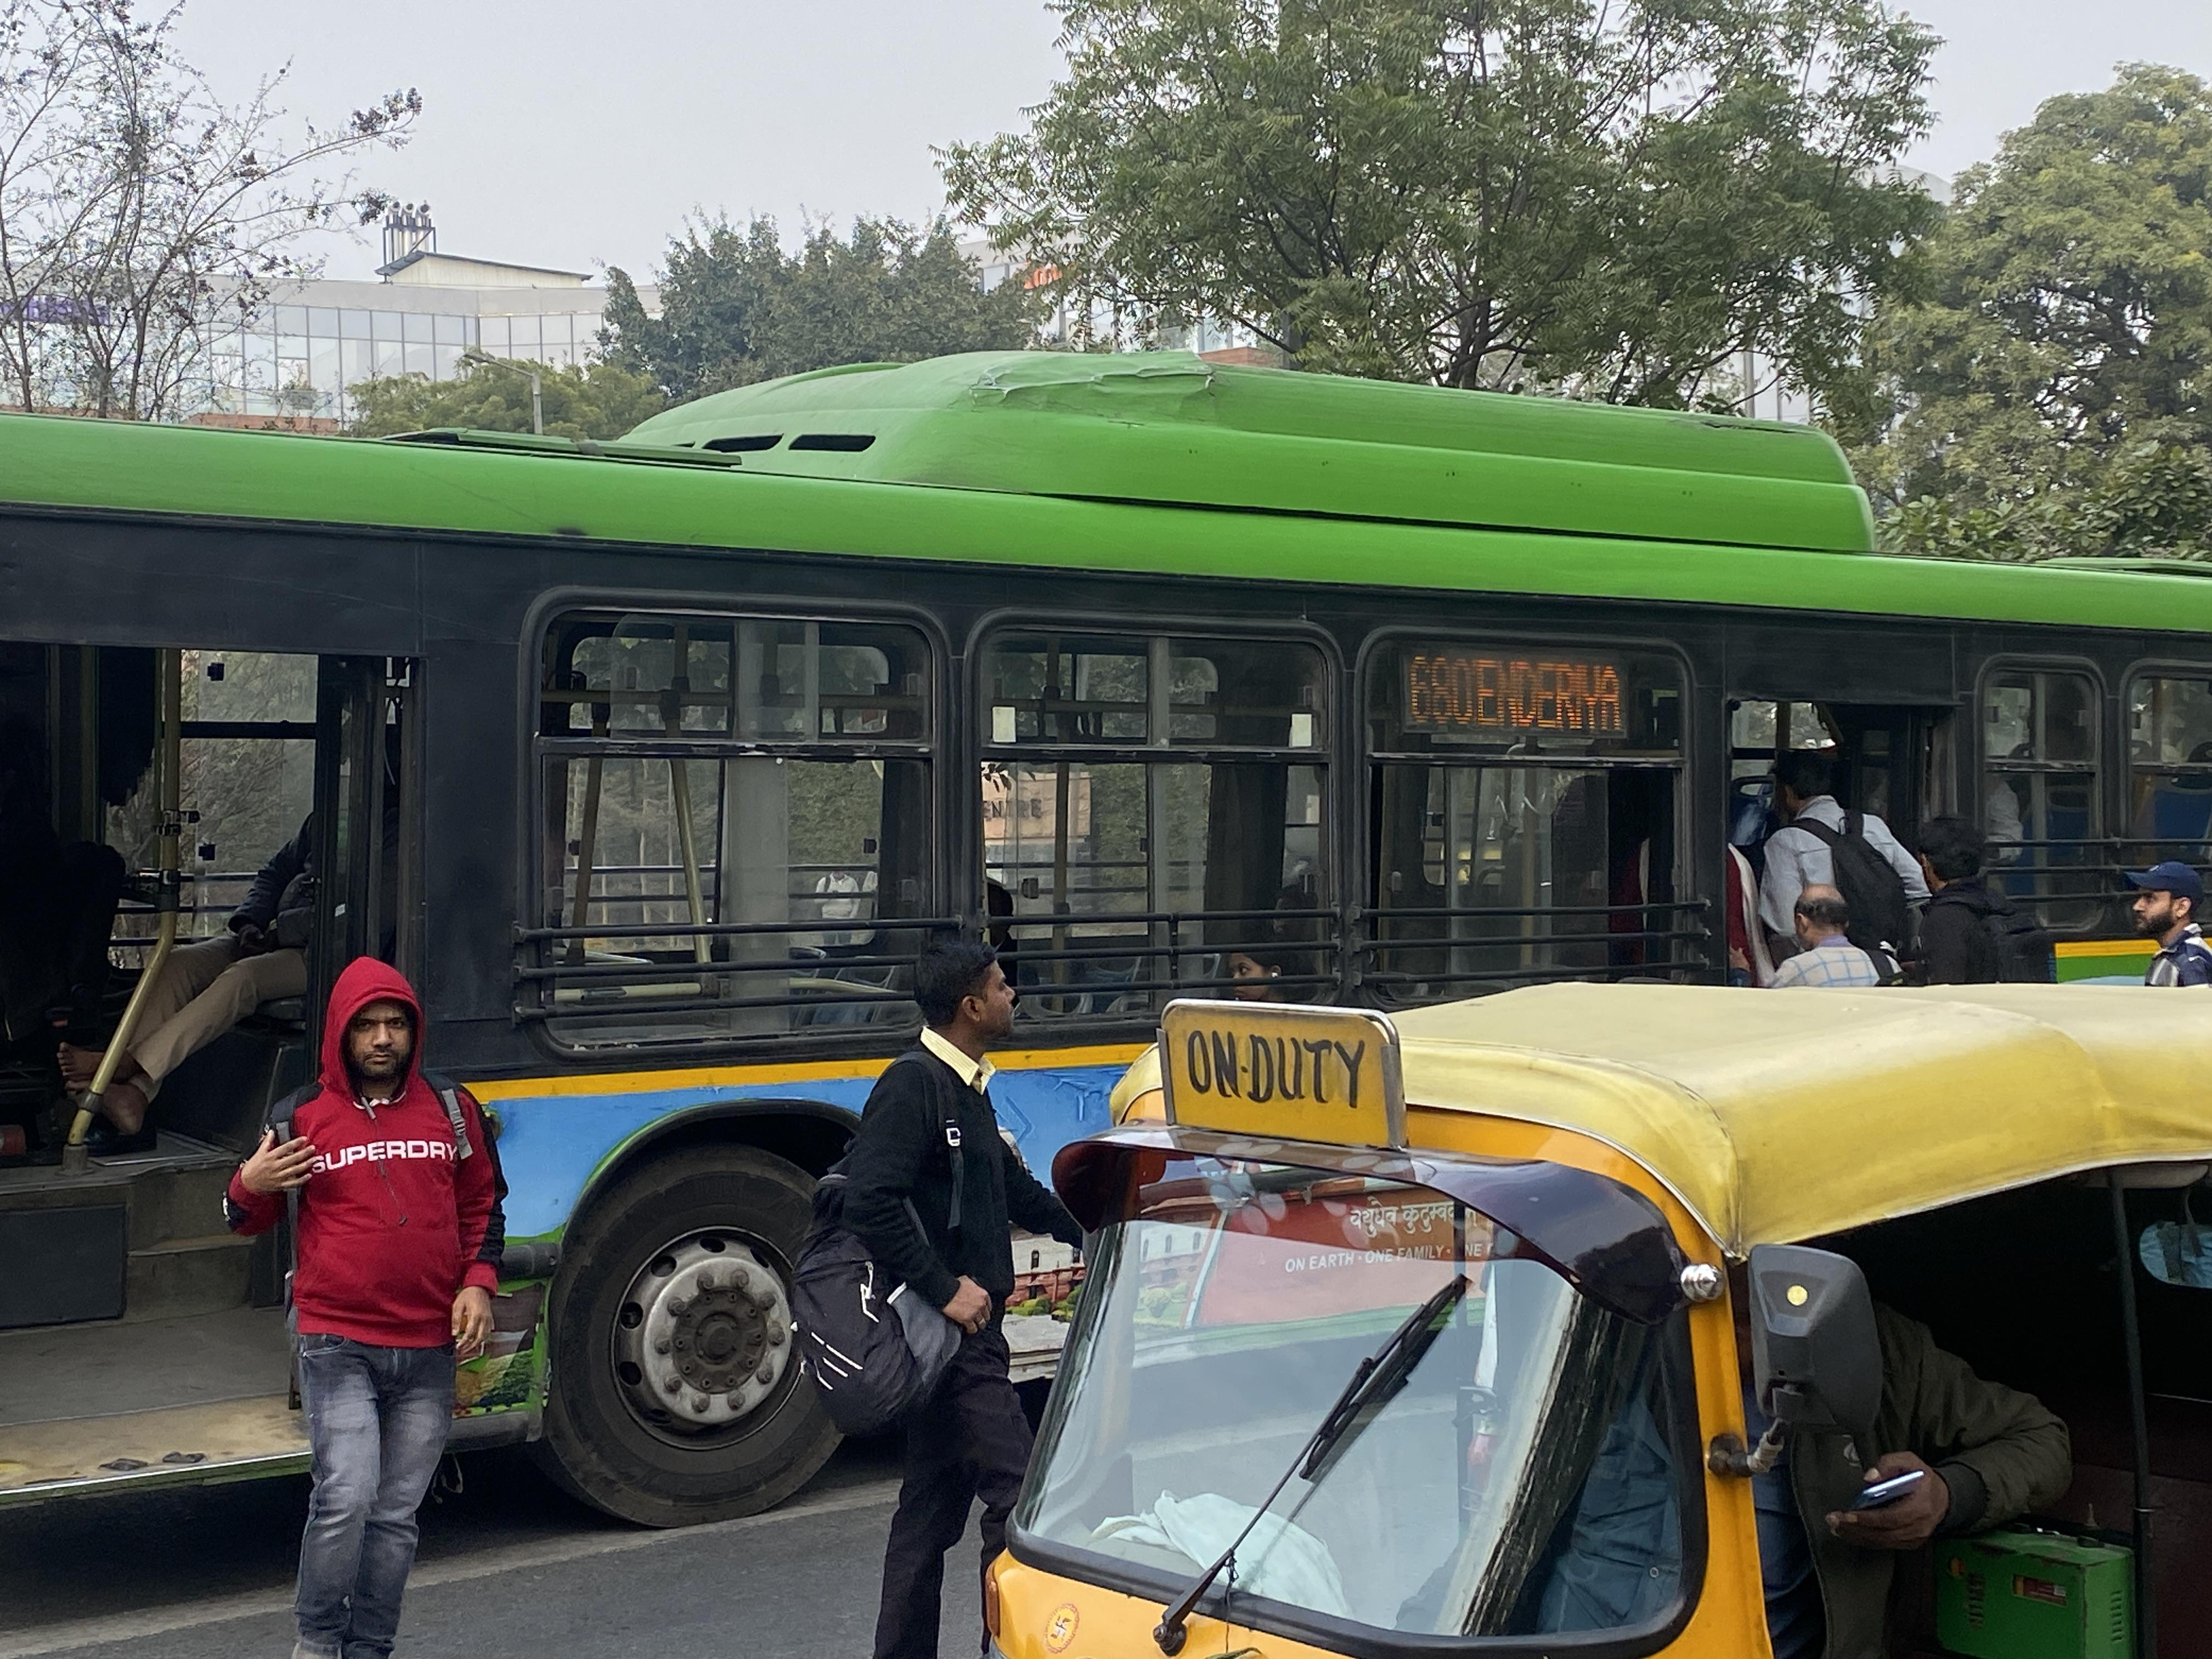Bus: (0, 373, 2212, 1530)
Display Board: (1355, 608, 1707, 795)
